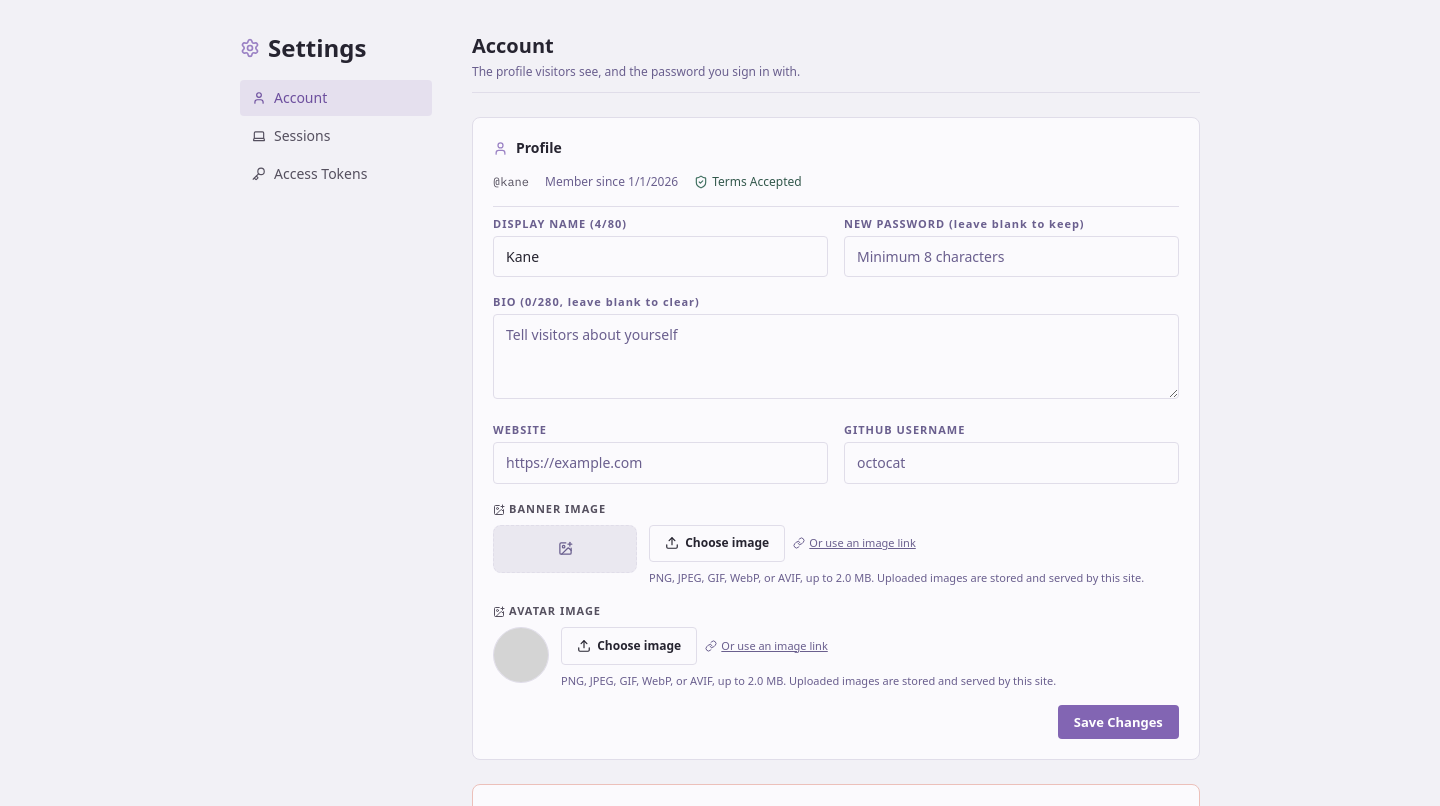
Test: SettingsPage › renames and rescopes a token inline
The image size is (1440, 806).
Click the button "Access Tokens" at (336, 174), box x1=240 y1=156 x2=432 y2=192
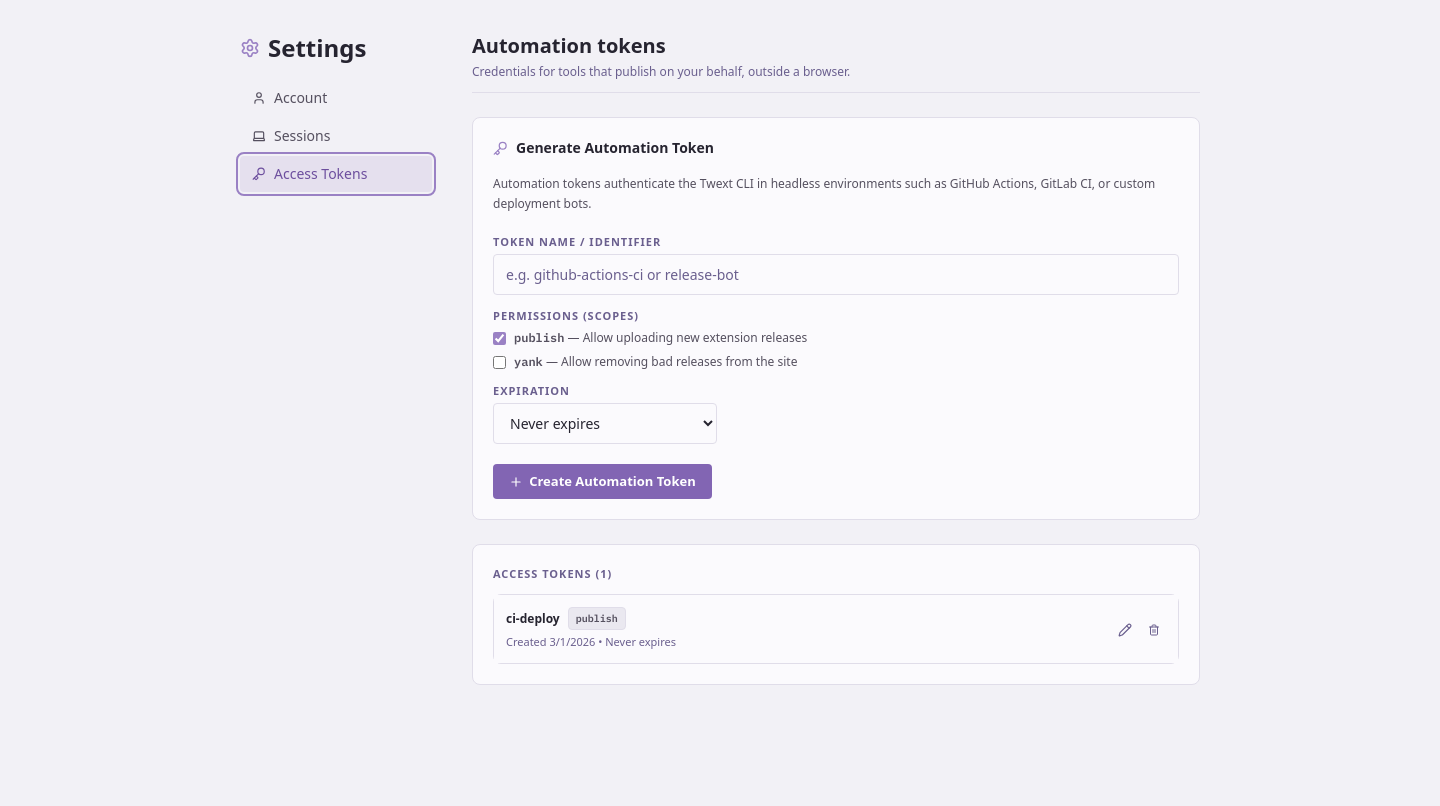
Now the heading "Access Tokens (1)" is shown, box x1=493 y1=566 x2=612 y2=581
Click the button titled "Edit Token" at (1125, 629), box x1=1112 y1=615 x2=1138 y2=643
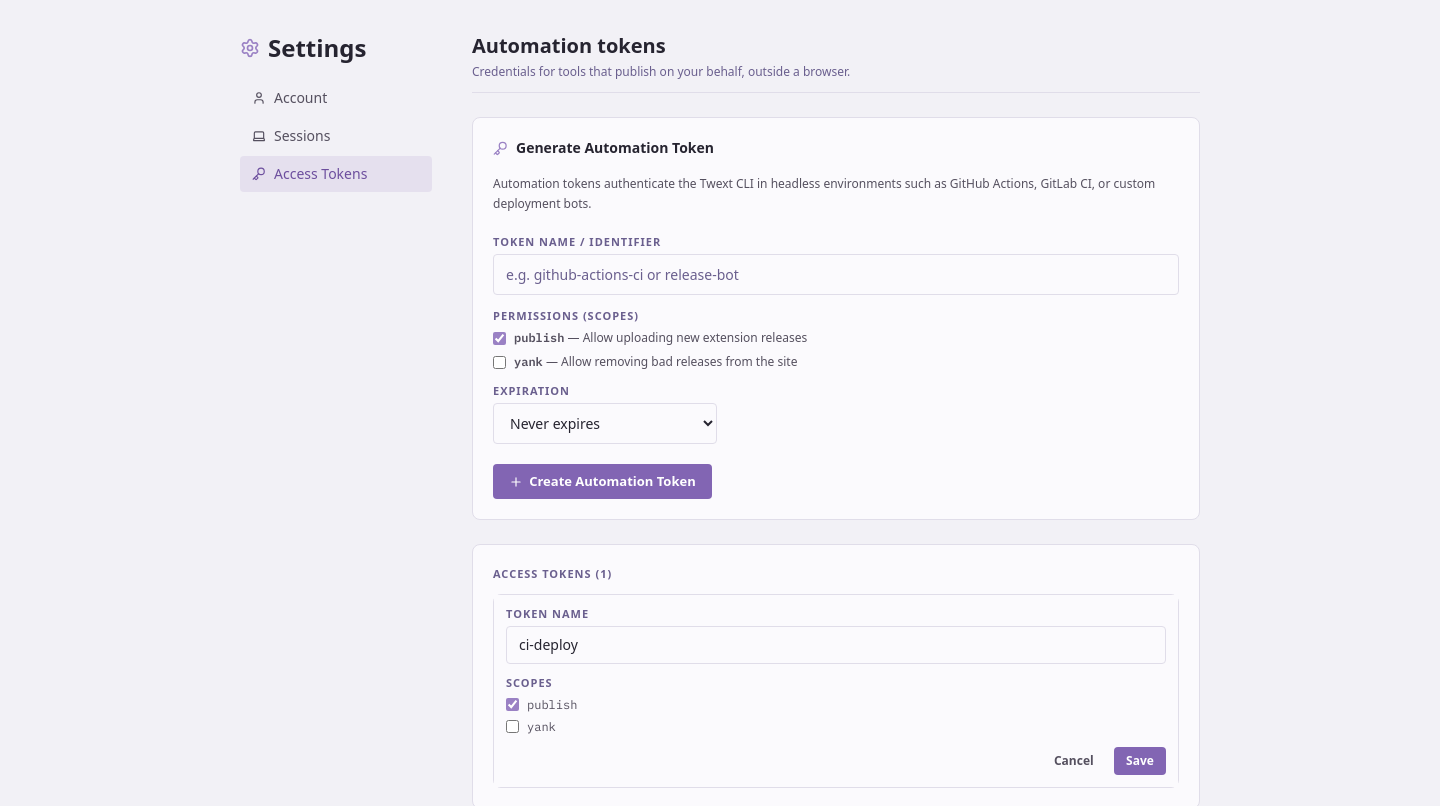
Replace the text in the field showing "ci-deploy" with "renamed" at (836, 645), box x1=506 y1=626 x2=1166 y2=664
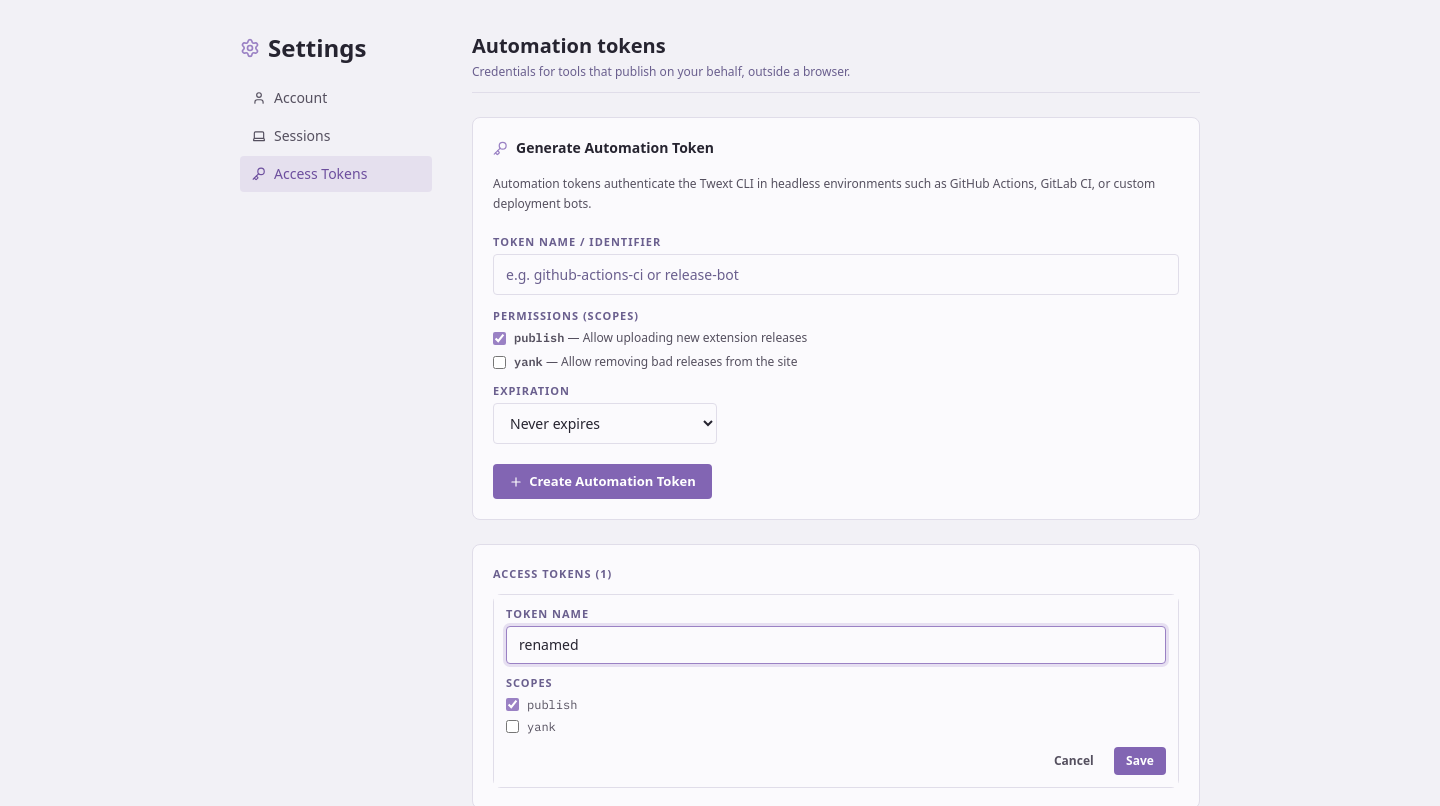
Click the checkbox labelled "yank" at (512, 727), box x1=506 y1=720 x2=519 y2=733
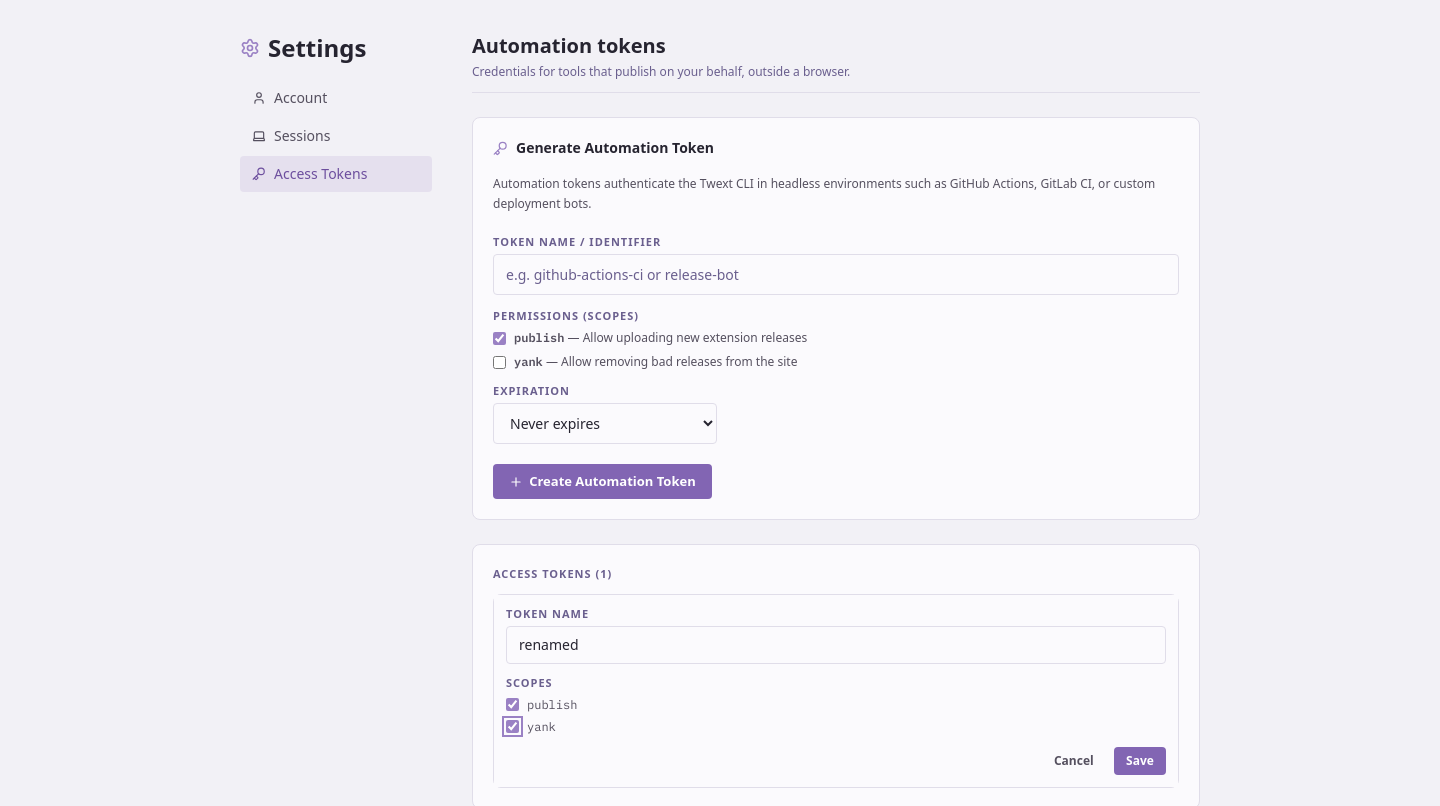
Click the button "Save" at (1140, 761), box x1=1114 y1=747 x2=1166 y2=775
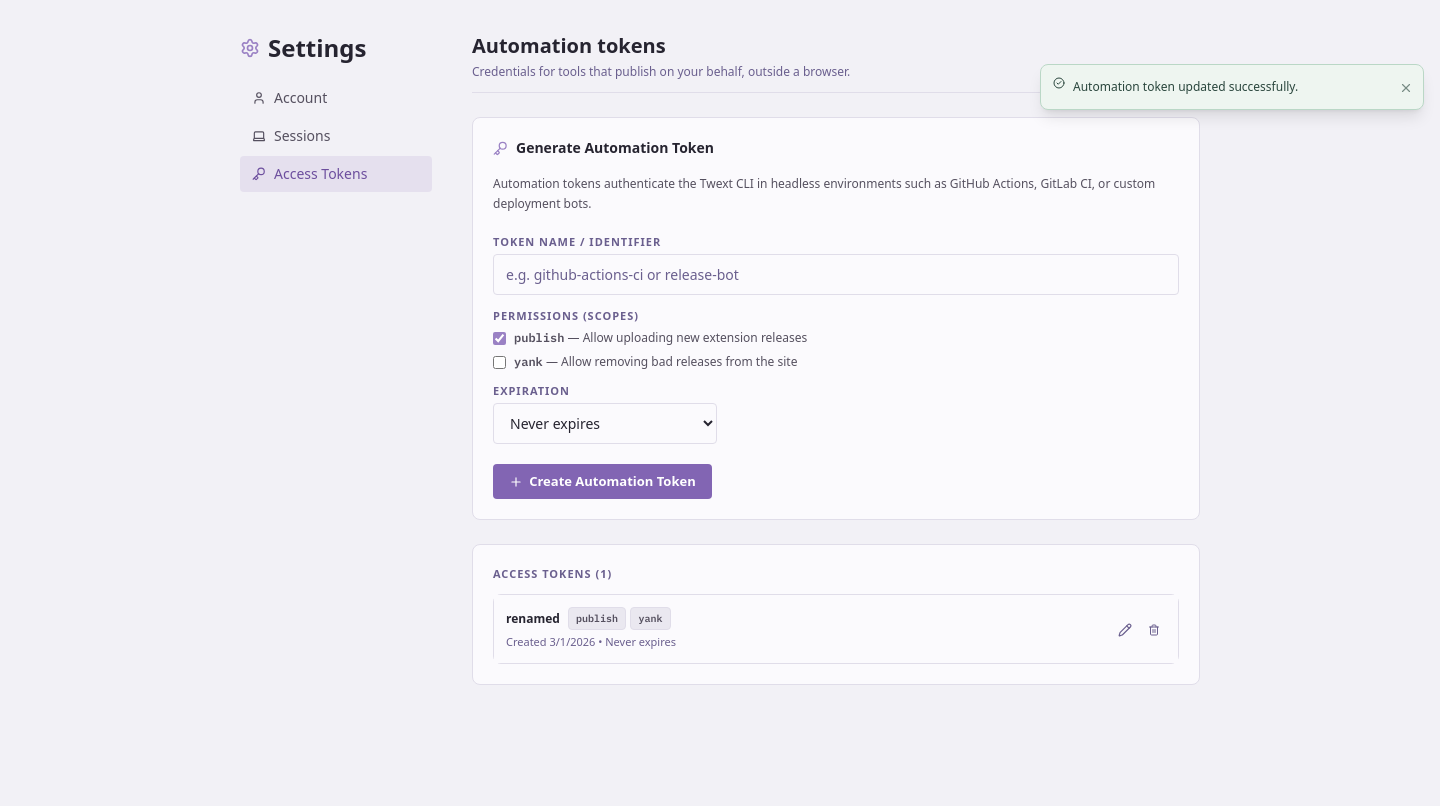
Now the text "Automation token updated successfully." is shown, box x1=1073 y1=78 x2=1298 y2=95
